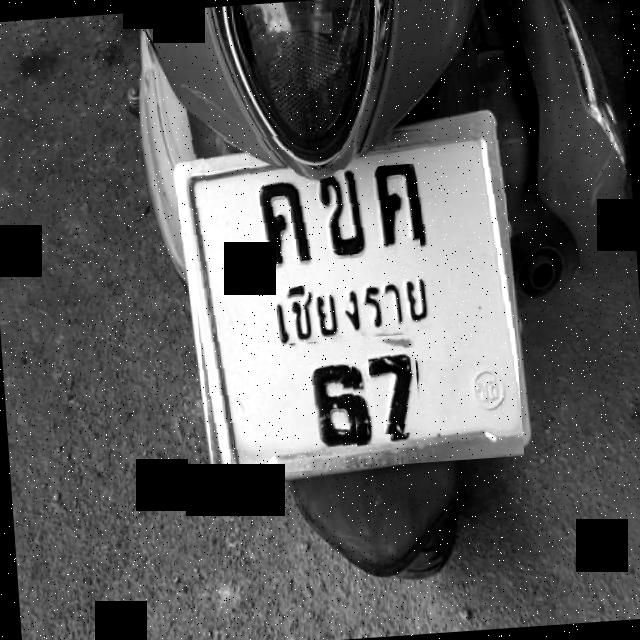letters: (253, 178, 311, 266), (308, 353, 358, 452), (366, 346, 419, 435), (372, 163, 421, 254), (318, 168, 362, 251)
license-plate: (182, 124, 523, 475)
province: (248, 276, 454, 348)
